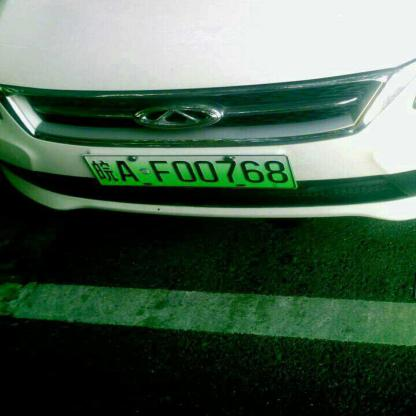lp: (84, 156, 294, 186)
